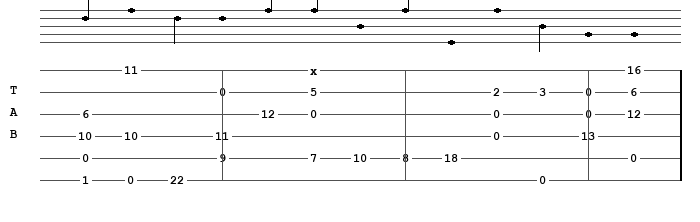0: (82, 152, 93, 164), (127, 174, 138, 186), (219, 86, 230, 98), (310, 108, 321, 120), (493, 130, 504, 142), (493, 108, 504, 120), (539, 174, 550, 186), (585, 86, 596, 98), (585, 108, 596, 120), (630, 152, 641, 164)
1: (82, 174, 93, 186)
10: (78, 130, 96, 142), (124, 130, 142, 142), (353, 152, 371, 164)
11: (124, 64, 142, 76), (215, 130, 233, 142)
12: (261, 108, 279, 120), (627, 108, 645, 120)
13: (581, 130, 599, 142)
16: (627, 64, 645, 76)
18: (444, 152, 462, 164)
2: (493, 86, 504, 98)
22: (170, 174, 188, 186)
3: (539, 86, 550, 98)
5: (310, 86, 321, 98)
6: (82, 108, 93, 120), (630, 86, 641, 98)
7: (310, 152, 321, 164)
8: (402, 152, 413, 164)
9: (219, 152, 230, 164)
x: (310, 65, 321, 75)
